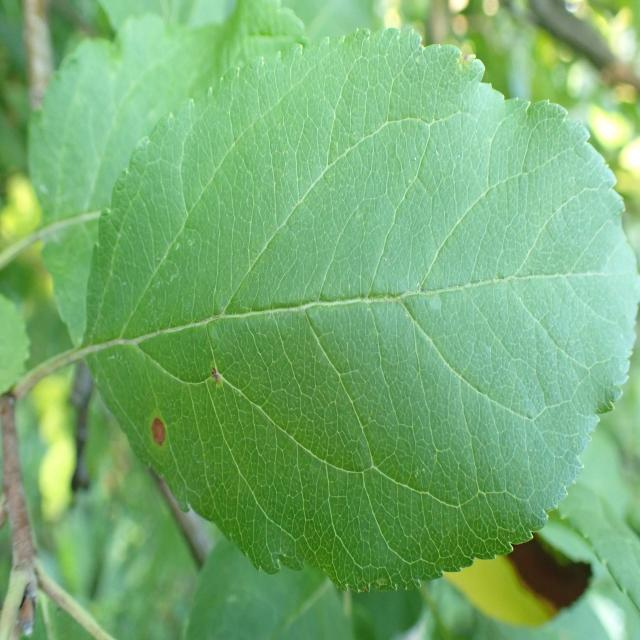Black Rot: (146, 391, 184, 472), (201, 363, 241, 399)
